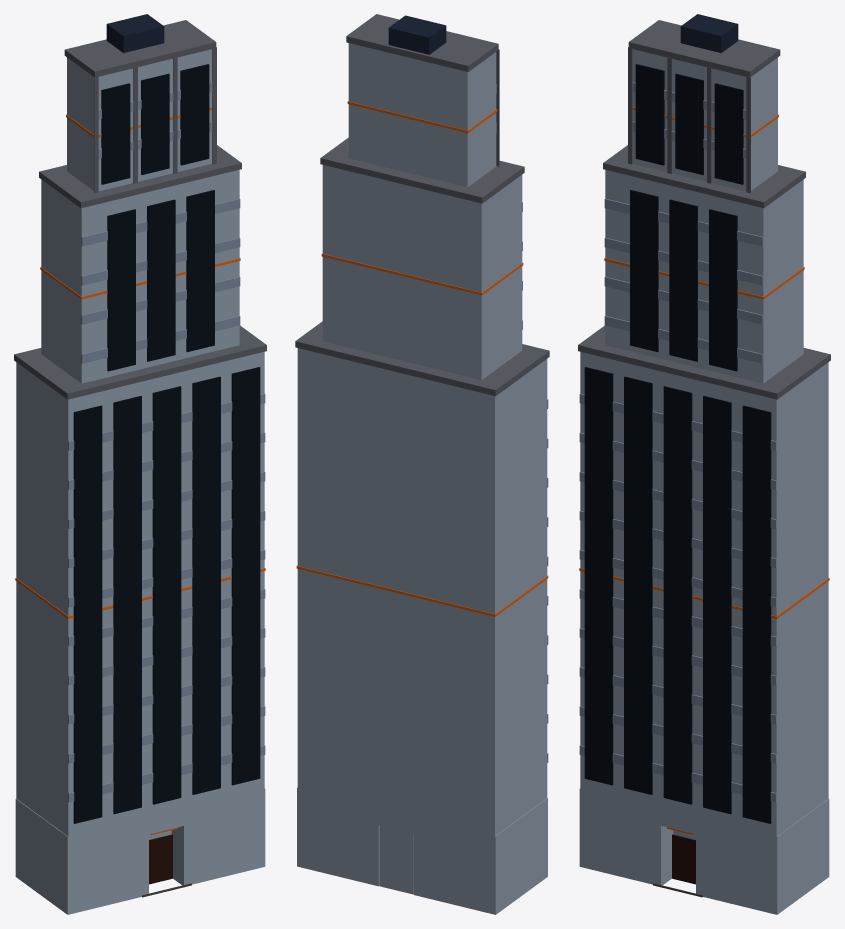
Rendered from pinnacle1.obj.
3 renders of one model, left to right at view 1: azimuth 30°, elevation 25°; view 2: azimuth 150°, elevation 25°; view 3: azimuth 330°, elevation 25°, orthographic.
Parts seen in each view (by area): view 1: windows, tiers, base-jambs, tier-caps, spandrels, crown-fins, crown-plant, entrance, window-lights, portal-head; view 2: tiers, base-jambs, tier-caps, portal-back, window-lights, crown-plant, portal-head; view 3: windows, tiers, base-jambs, tier-caps, spandrels, crown-fins, crown-plant, entrance, window-lights, portal-head.
Boxes of the visible parts, x1=… form: windows: x1=73, y1=64, x2=260, y2=823; tiers: x1=16, y1=49, x2=264, y2=836; base-jambs: x1=15, y1=788, x2=265, y2=914; tier-caps: x1=14, y1=20, x2=266, y2=399; spandrels: x1=68, y1=82, x2=265, y2=802; crown-fins: x1=94, y1=47, x2=216, y2=193; crown-plant: x1=106, y1=14, x2=164, y2=52; entrance: x1=149, y1=834, x2=172, y2=884; window-lights: x1=15, y1=107, x2=265, y2=618; portal-head: x1=149, y1=808, x2=183, y2=834; tiers: x1=297, y1=43, x2=547, y2=835; base-jambs: x1=297, y1=787, x2=547, y2=914; tier-caps: x1=295, y1=14, x2=549, y2=396; portal-back: x1=379, y1=825, x2=413, y2=894; window-lights: x1=296, y1=101, x2=548, y2=616; crown-plant: x1=388, y1=15, x2=446, y2=54; portal-head: x1=378, y1=808, x2=413, y2=833; windows: x1=584, y1=64, x2=771, y2=823; tiers: x1=580, y1=49, x2=828, y2=836; base-jambs: x1=579, y1=788, x2=829, y2=914; tier-caps: x1=578, y1=20, x2=830, y2=399; spandrels: x1=579, y1=82, x2=776, y2=802; crown-fins: x1=628, y1=47, x2=750, y2=193; crown-plant: x1=680, y1=14, x2=738, y2=52; entrance: x1=672, y1=834, x2=695, y2=884; window-lights: x1=579, y1=107, x2=829, y2=618; portal-head: x1=661, y1=808, x2=695, y2=834.
Bounding box in the file's own units: 6.86 × 27.74 × 3.21.
